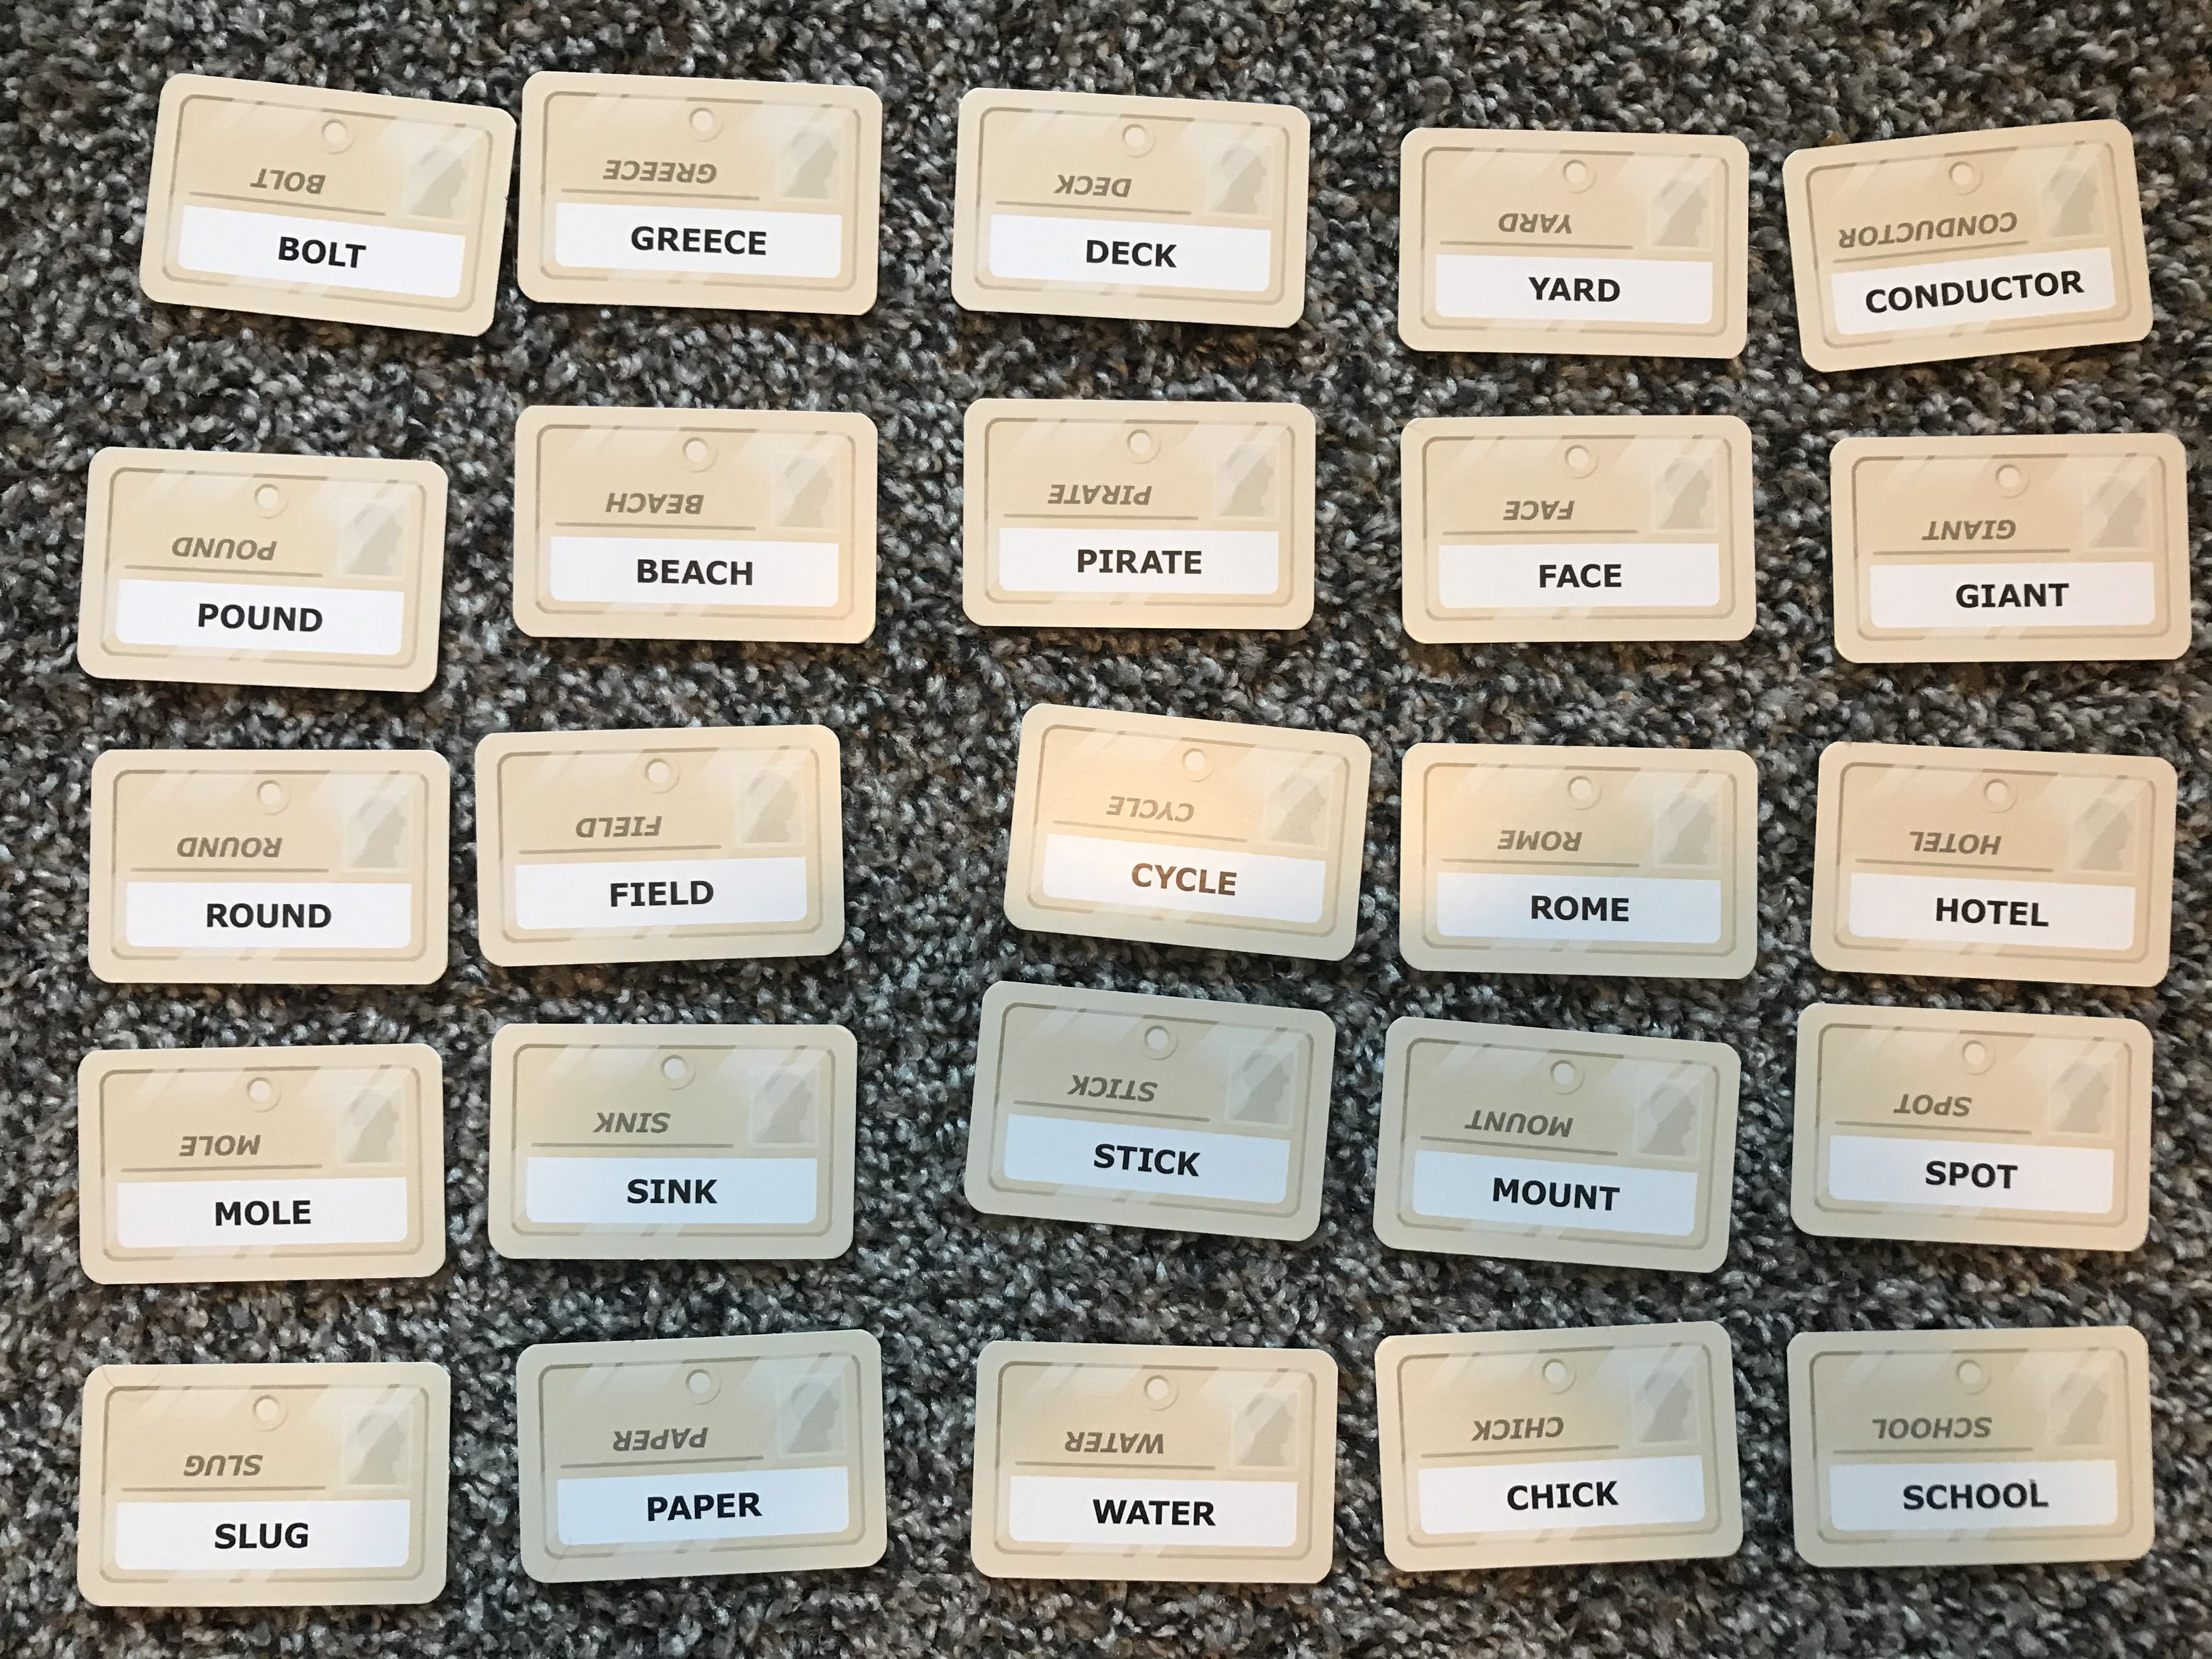A: (1552, 556, 1585, 599), (1996, 575, 2024, 619), (678, 551, 707, 591), (1136, 544, 1163, 584), (665, 1490, 690, 1530), (1125, 1495, 1150, 1535), (1548, 274, 1573, 310)
